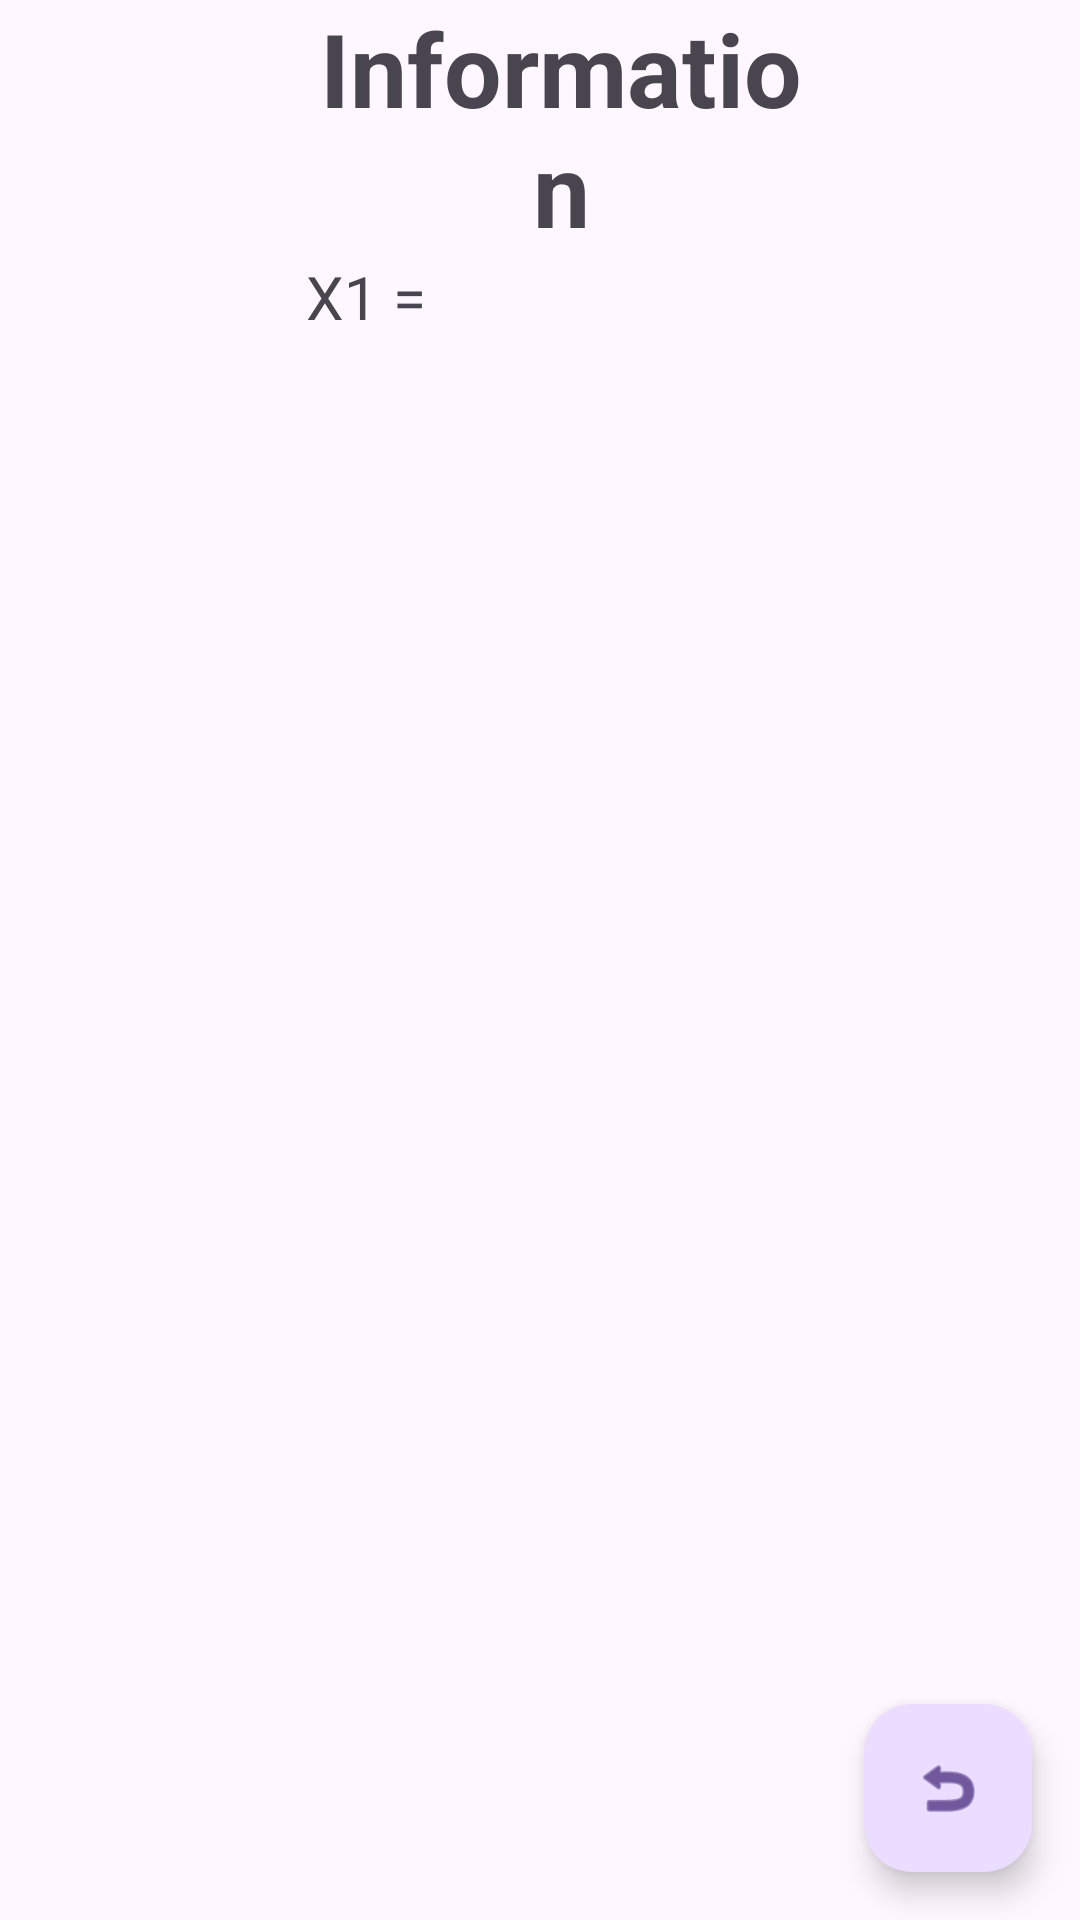

Icon click points for this 1080*1920 phone screenshot, format (x=x, y=y):
revert: (x=948, y=1788)
